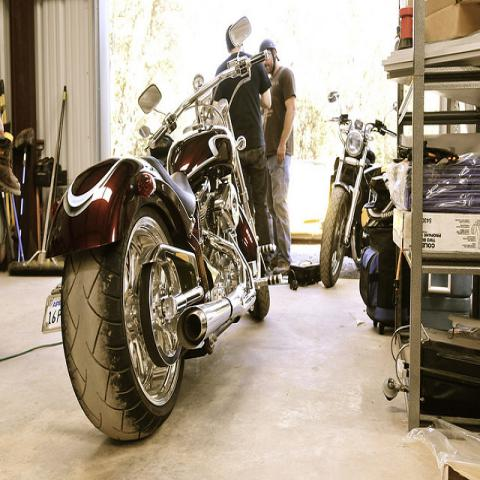motorcycle: (42, 23, 300, 444), (321, 90, 398, 285)
